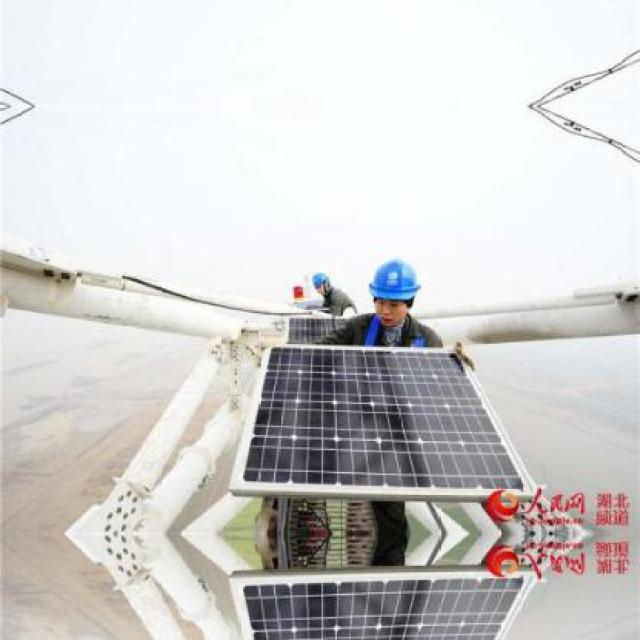helmet: (366, 250, 420, 328), (309, 266, 331, 294)
